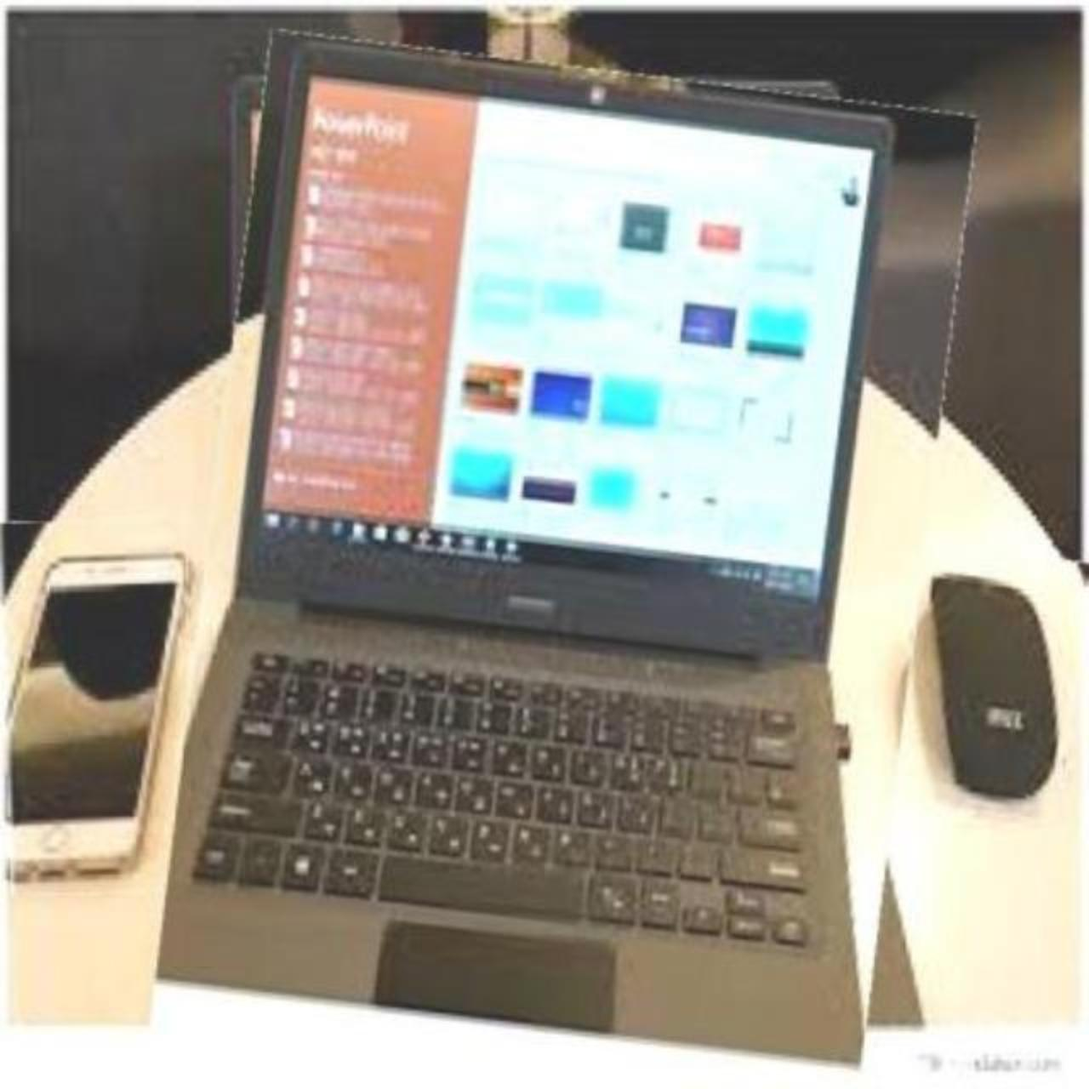laptop: (177, 51, 946, 1089)
